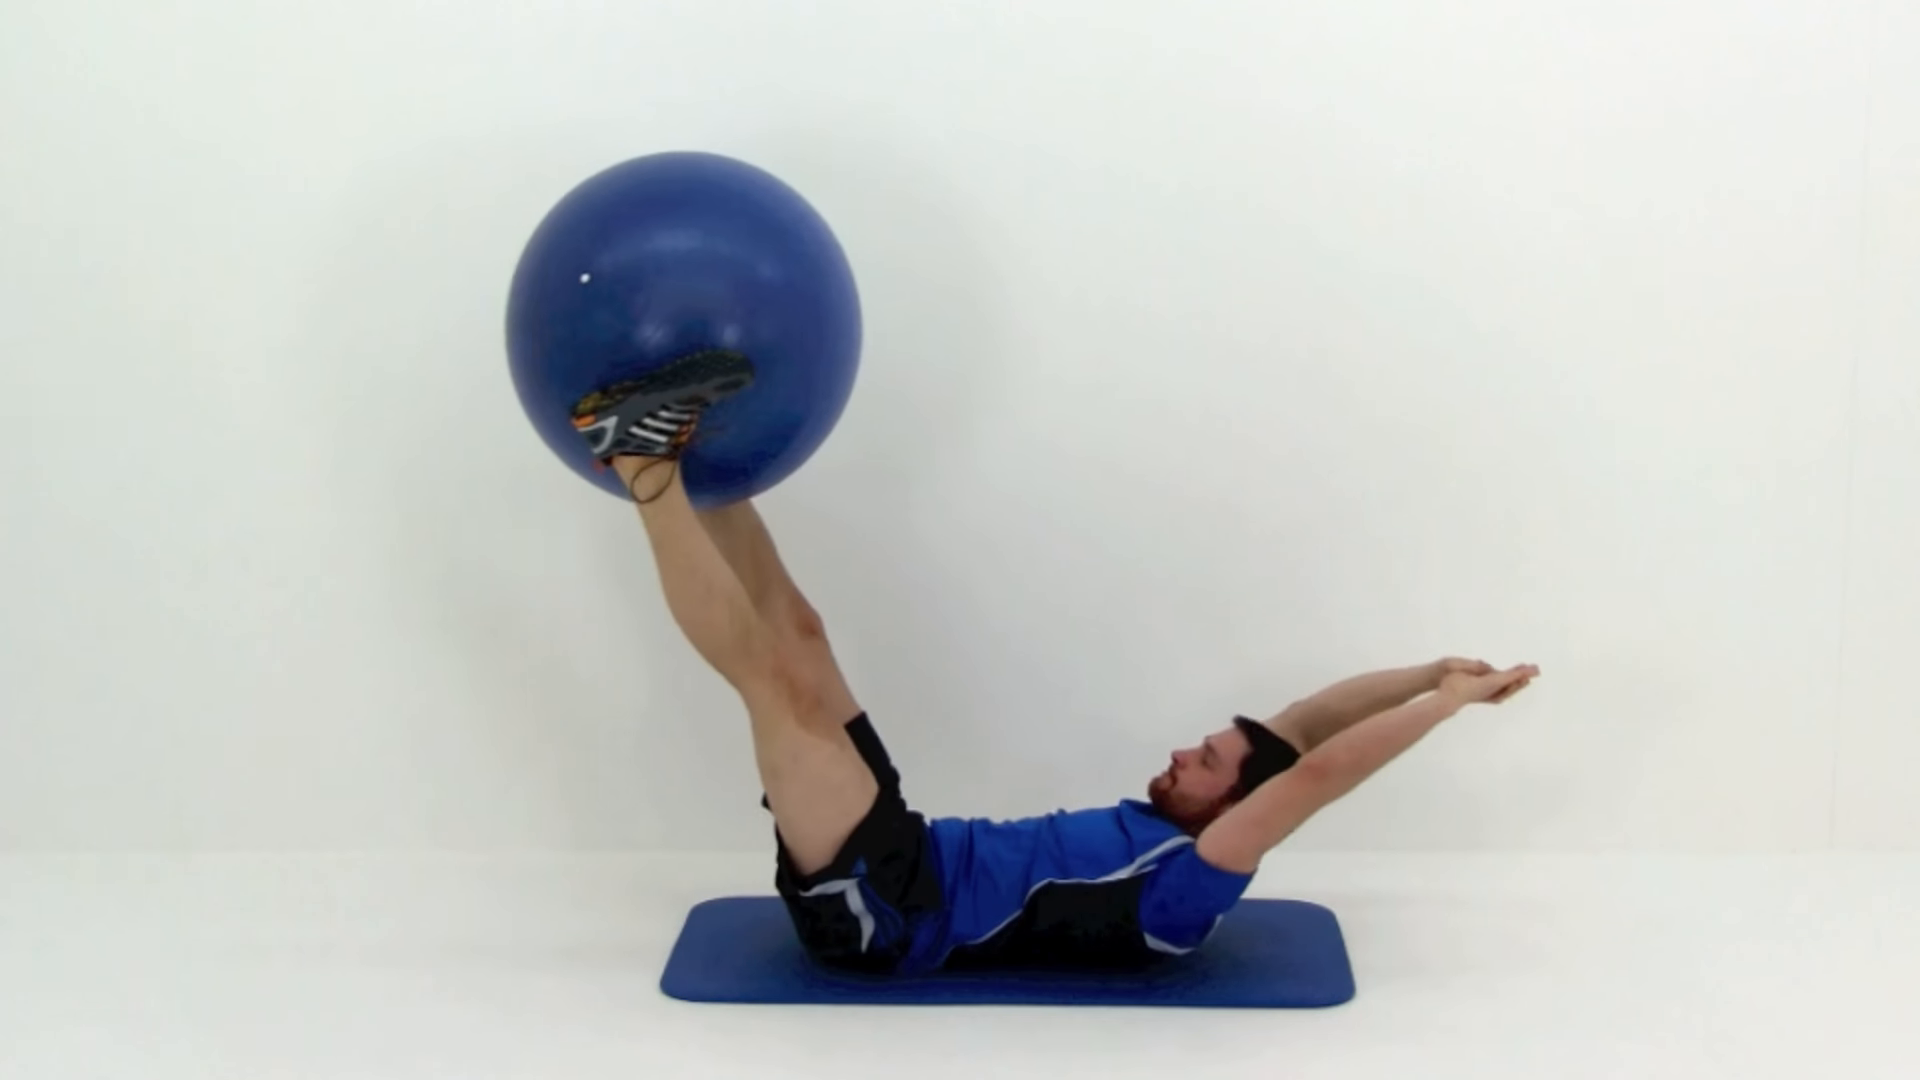yogaball: (500, 142, 878, 520)
